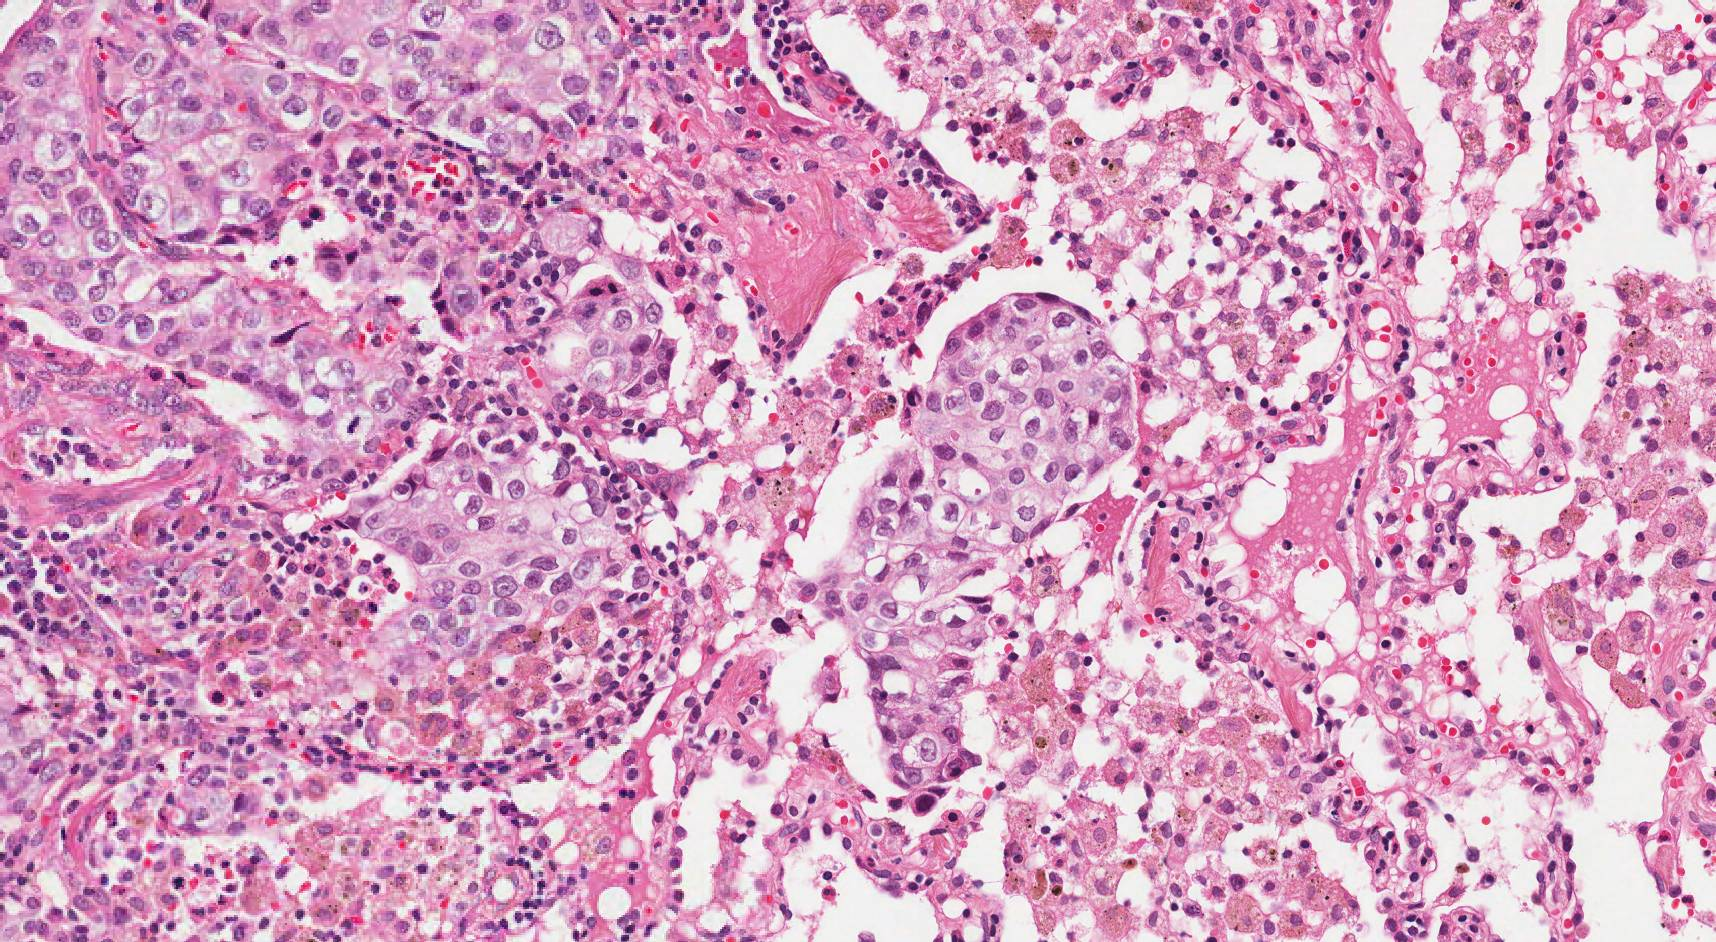stas: (786, 288, 1136, 813)
